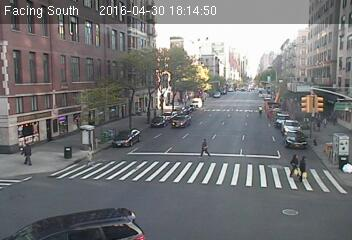neg: (142, 175, 155, 191), (59, 151, 71, 167), (146, 19, 157, 34), (133, 97, 144, 111), (254, 101, 265, 115), (41, 34, 51, 47), (64, 217, 74, 230), (104, 172, 113, 184), (193, 101, 202, 113), (74, 29, 83, 41), (38, 92, 47, 104), (108, 18, 116, 29), (114, 100, 121, 110), (199, 31, 206, 40), (231, 104, 238, 112), (275, 121, 282, 129), (154, 103, 160, 110), (281, 39, 285, 45), (254, 47, 257, 51)
pos: (283, 151, 306, 183), (293, 152, 315, 181), (17, 137, 37, 164), (194, 137, 214, 163), (312, 119, 324, 135), (320, 115, 329, 128)
